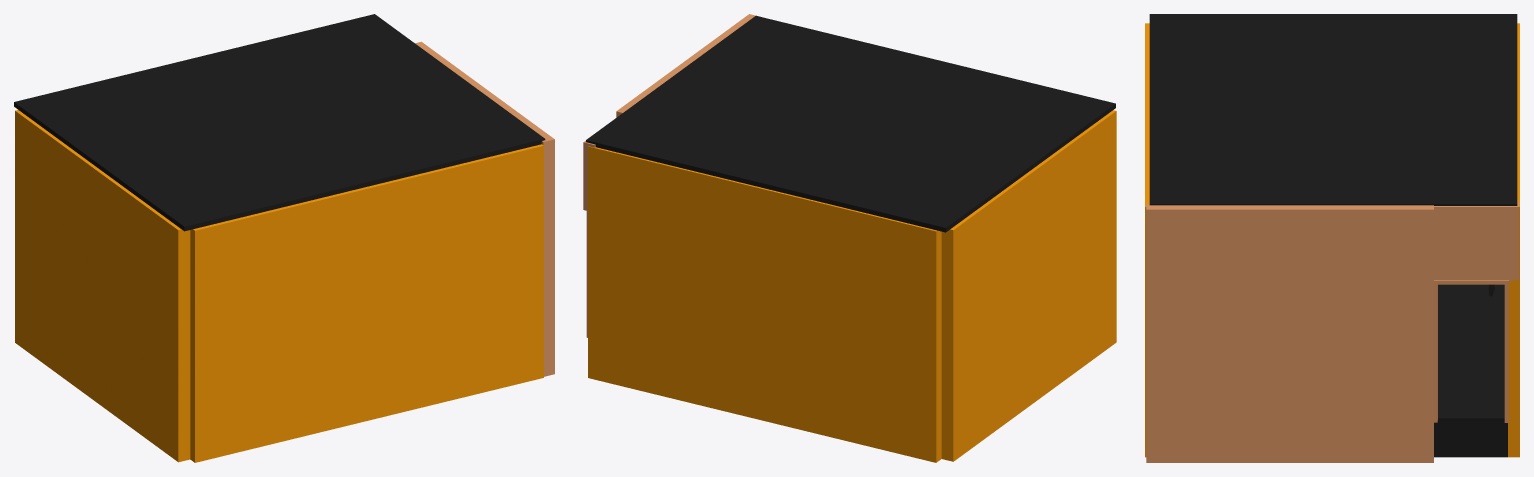
Rendered from room.glb.
3 renders of one model, left to right at view 1: azimuth 30°, elevation 25°; view 2: azimuth 150°, elevation 25°; view 3: azimuth 270°, elevation 25°, orthographic. The views are drawn at different scales.
Visible parts, largest first — view 1: Node, doorway_1; view 2: Node, doorway_1; view 3: Node, doorway_1.
Boxes of the visible parts, x1,y1,x2,y2 form: Node: (14,14,545,462); doorway_1: (415,41,554,376); Node: (586,15,1116,462); doorway_1: (583,14,755,337); Node: (1145,14,1519,457); doorway_1: (1146,201,1518,462).
Bounding box in the file's own units: 3.14 × 1.91 × 2.54.
